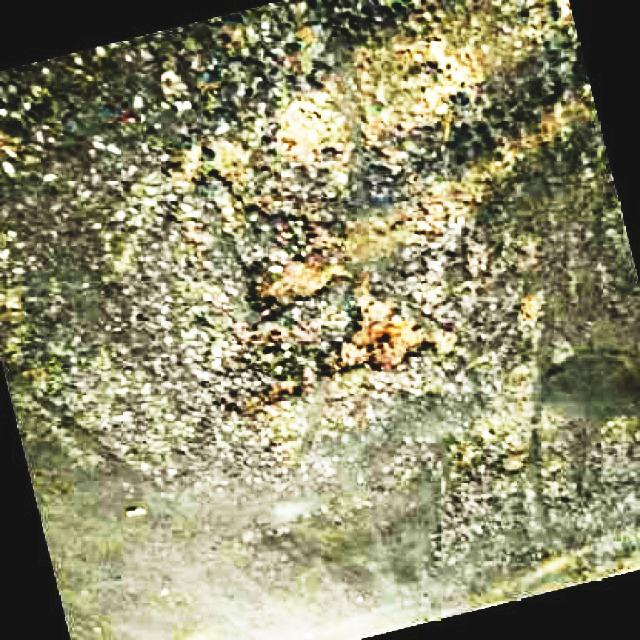pothole: (200, 206, 462, 423)
